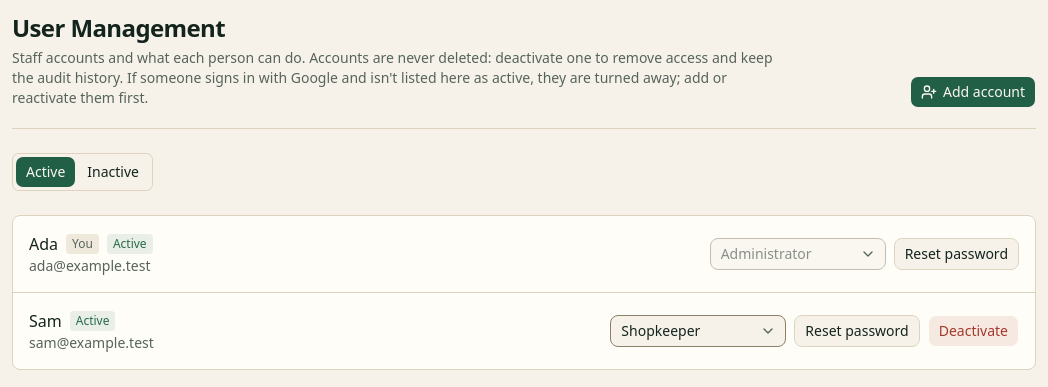
staff accounts page › lists active accounts, switches to inactive, and has no delete control
Expected: the text "Sam" is shown, [29,309,62,333]
Expected: the dropdown named "You can't change your own role" is disabled, [710,238,886,270]
Click the button "Inactive": (113, 172) [76,156,150,188]
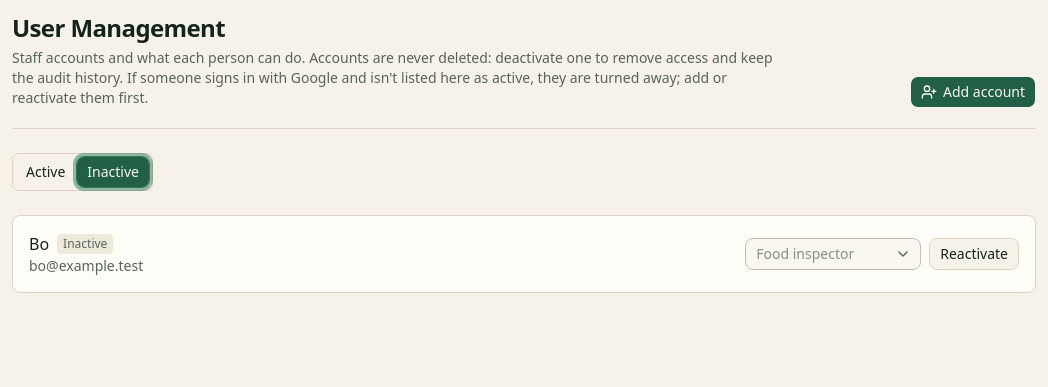
Result: the text "Bo" is shown at [29,232,49,256]
Result: the button "Reactivate" is shown at [929,238,1019,270]
